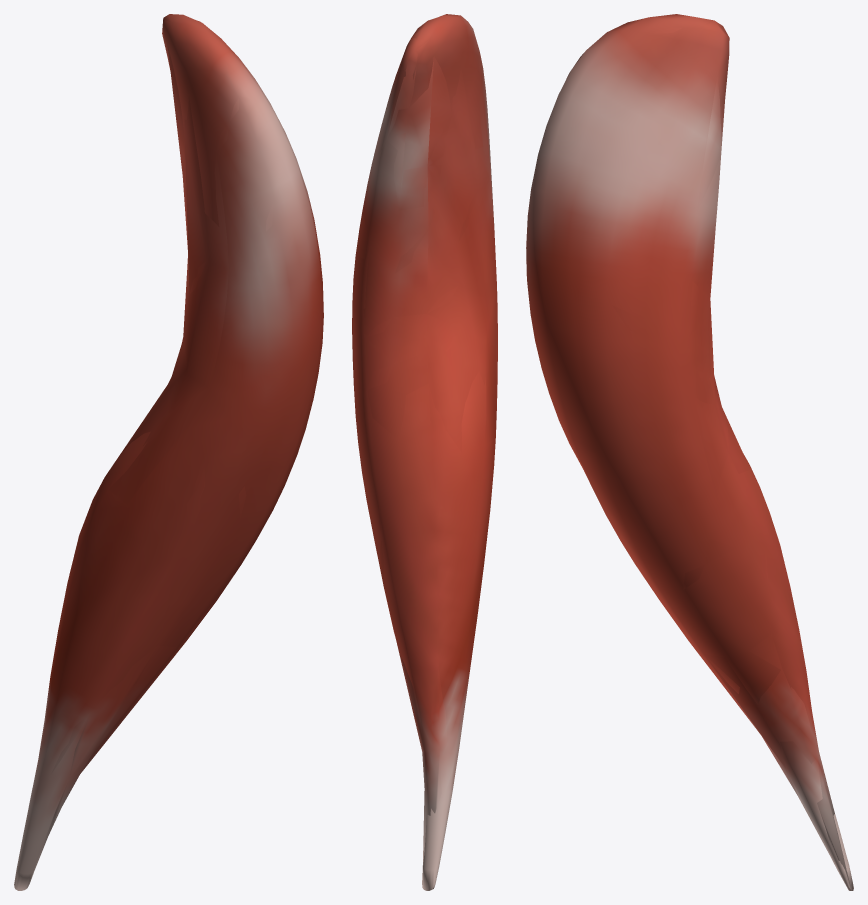
Rendered from L Extensor Carpi Radialis.fbx.
3 views of the same model, side by side, from view 1: azimuth 30°, elevation 25°; view 2: azimuth 150°, elevation 25°; view 3: azimuth 270°, elevation 25° (orthographic). The views are drawn at different scales.
Visible parts, largest first — view 1: L Extensor Carpi Radialis, L Extensor Carpi Radialis low; view 2: L Extensor Carpi Radialis, L Extensor Carpi Radialis low; view 3: L Extensor Carpi Radialis, L Extensor Carpi Radialis low.
Part boxes in pixels (box(x1,y1,x2,y2)): L Extensor Carpi Radialis: box(14, 14, 323, 890); L Extensor Carpi Radialis low: box(29, 14, 299, 883); L Extensor Carpi Radialis: box(352, 14, 497, 890); L Extensor Carpi Radialis low: box(352, 14, 496, 882); L Extensor Carpi Radialis: box(526, 14, 853, 890); L Extensor Carpi Radialis low: box(528, 19, 850, 888).
Size of the model in its own units: 3.19 by 14.9 by 4.84.
